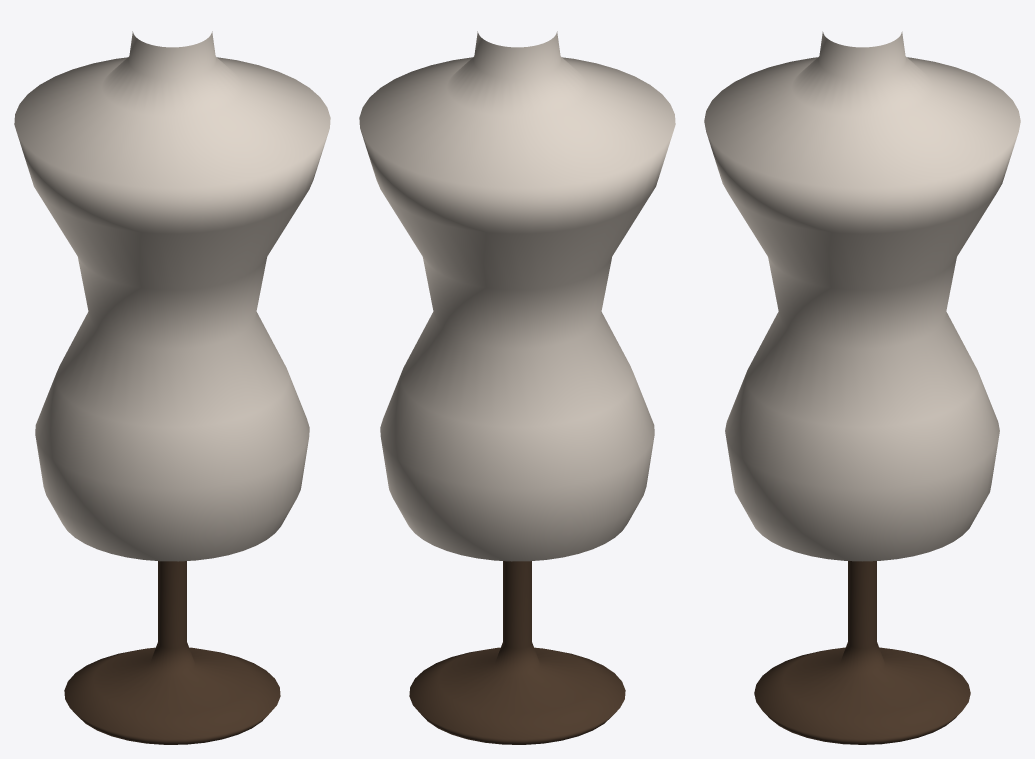
File: mannequin-fallback.glb
The picture shows the model from 3 angles, left to right: view 1: azimuth 30°, elevation 25°; view 2: azimuth 150°, elevation 25°; view 3: azimuth 270°, elevation 25°; orthographic projection.
Parts seen in each view (by area): view 1: IvoryTextileDressForm, DarkWoodStand; view 2: IvoryTextileDressForm, DarkWoodStand; view 3: IvoryTextileDressForm, DarkWoodStand.
Part boxes in pixels (x1,y1,x2,y2): IvoryTextileDressForm: [14, 31, 330, 561]; DarkWoodStand: [64, 561, 280, 744]; IvoryTextileDressForm: [359, 31, 675, 561]; DarkWoodStand: [409, 561, 625, 744]; IvoryTextileDressForm: [704, 31, 1020, 561]; DarkWoodStand: [754, 561, 970, 744].
Bounding box in the file's own units: 0.76 × 1.78 × 0.76.
